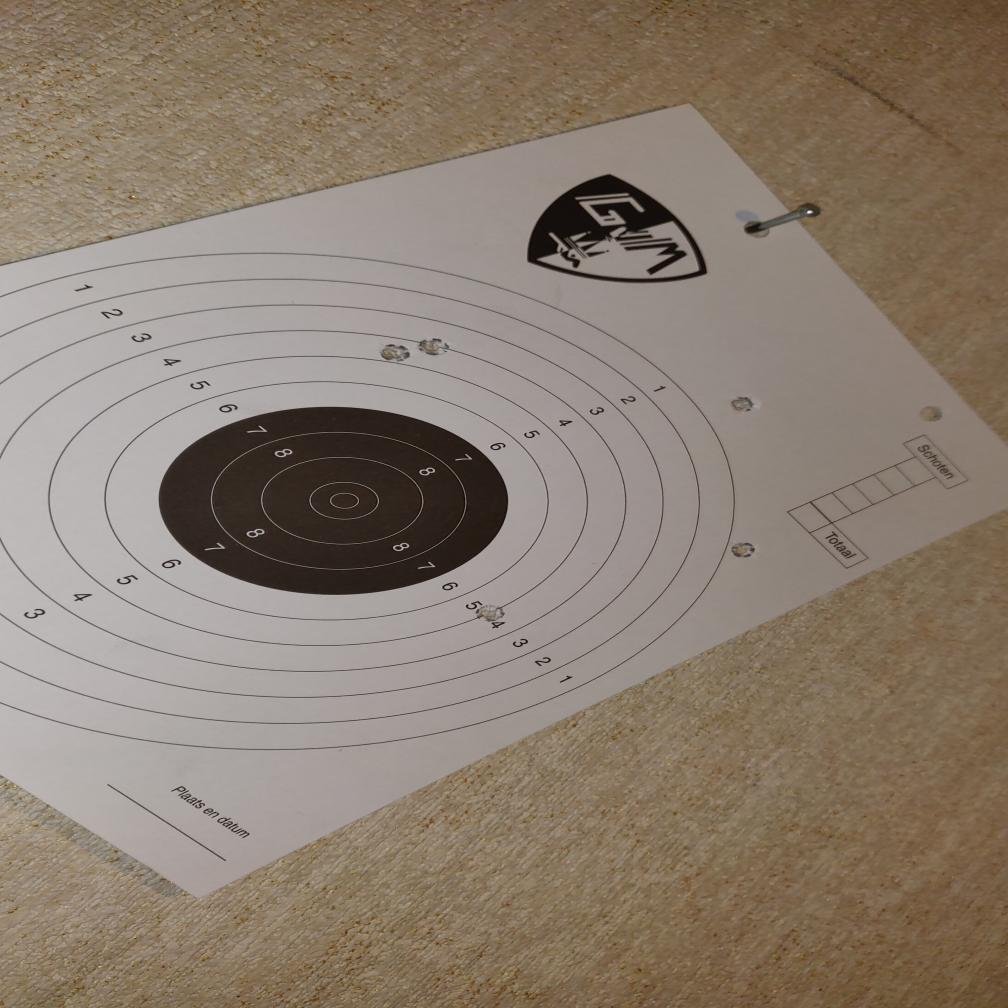0: (728, 396, 763, 414), (730, 540, 761, 560)
4: (379, 342, 415, 364), (419, 336, 449, 358)
6: (472, 602, 512, 621)
Target: (3, 250, 740, 753)
black_contour: (158, 405, 510, 595)
